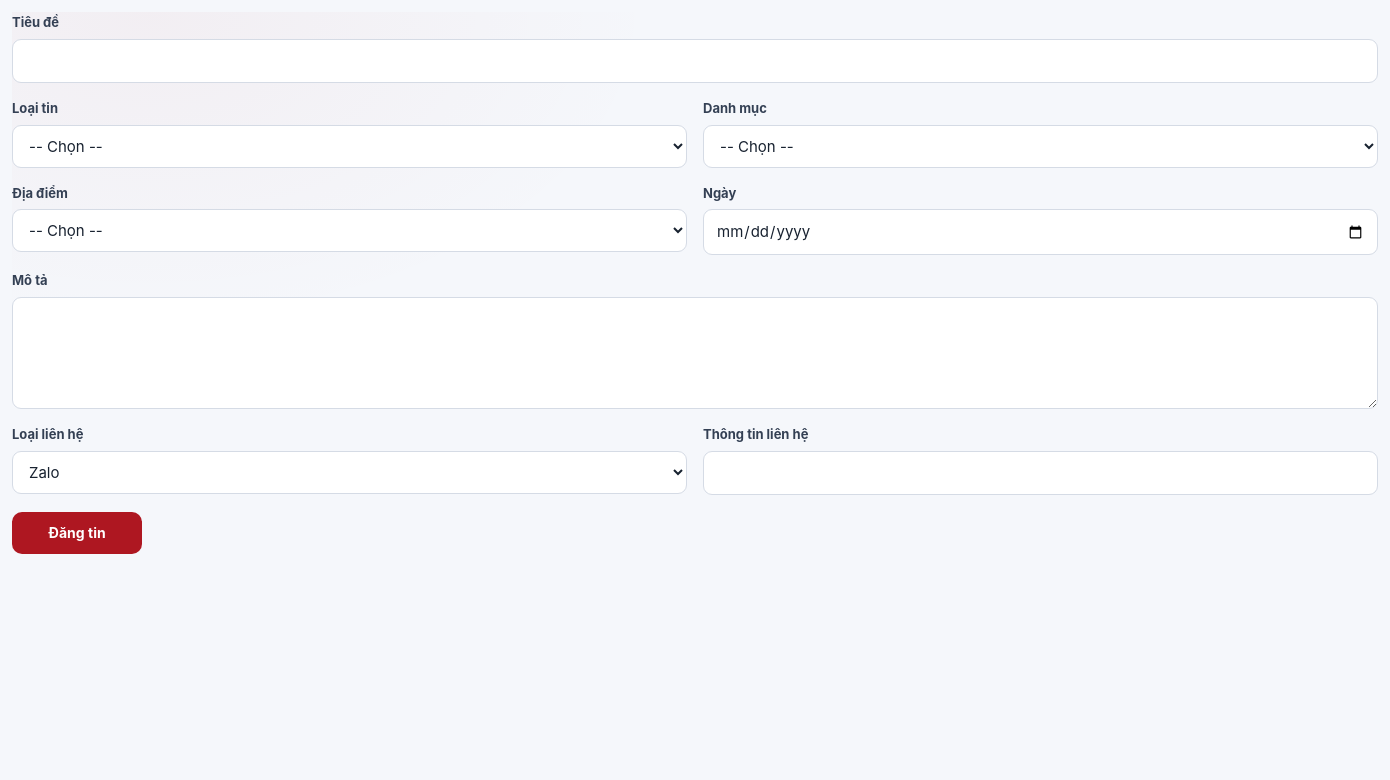
it: Biểu mẫu đăng tin › hiện thông báo không có quyền và giữ lại tiêu đề đã nhập
In the field labelled "Tiêu đề": (695, 61) x1=12 y1=39 x2=1378 y2=83, type "Mất tai nghe không dây"
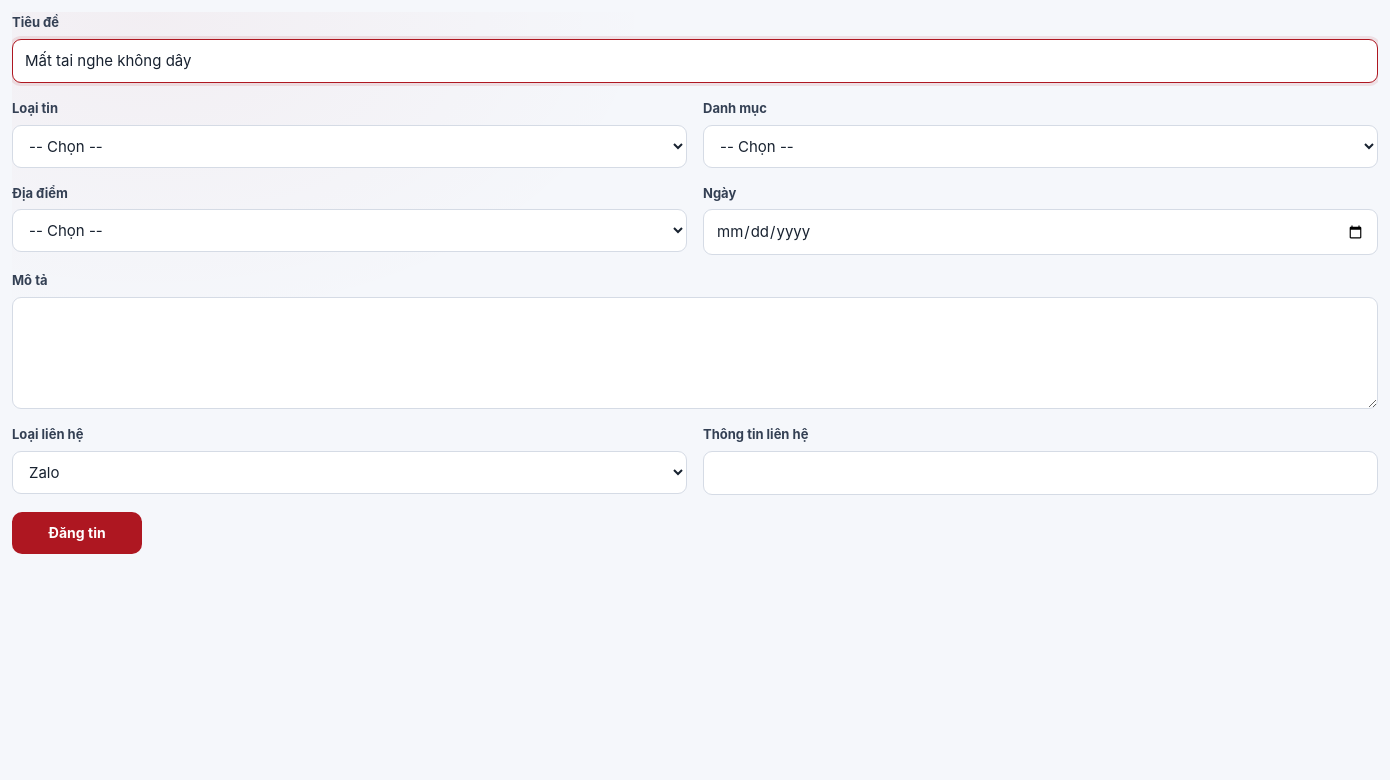
Click the button "Đăng tin": (77, 533) x1=12 y1=512 x2=142 y2=554
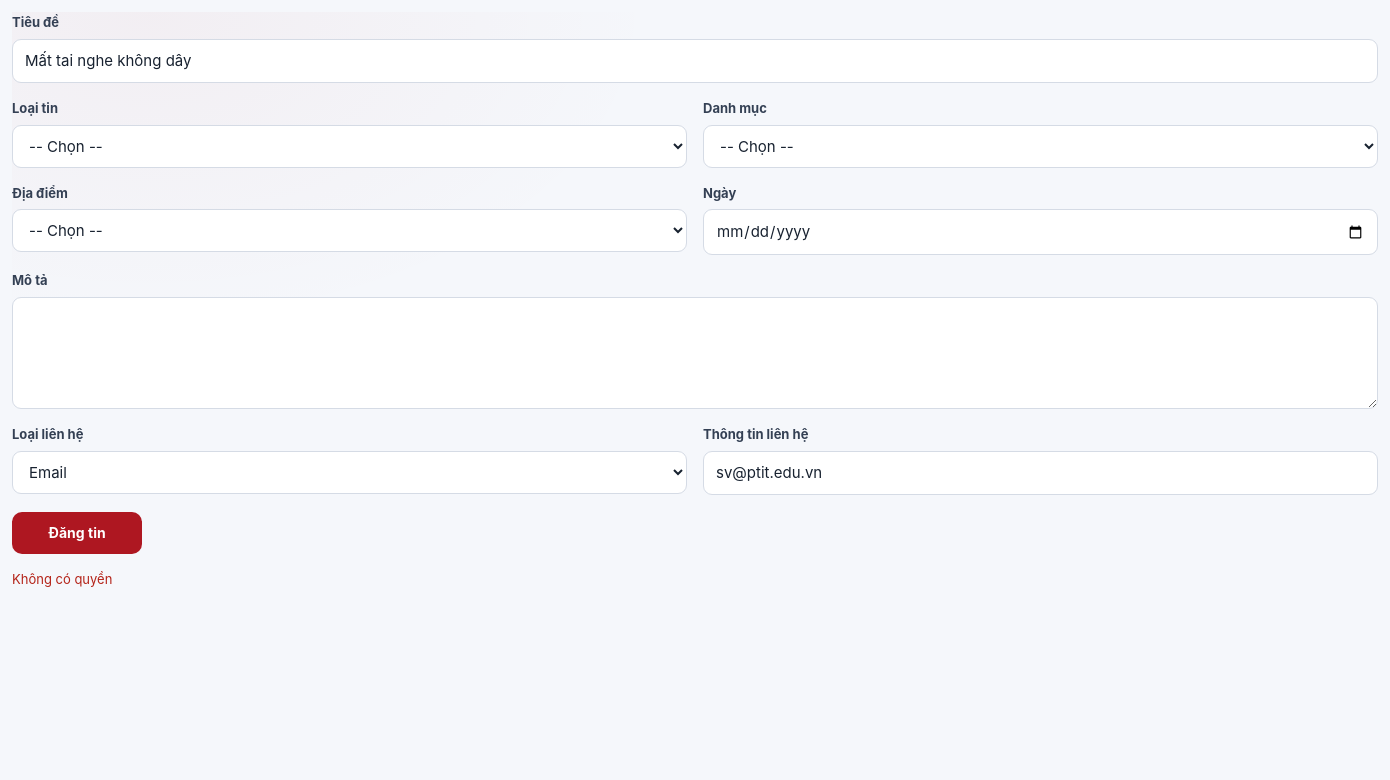
Now the field labelled "Tiêu đề" holds "Mất tai nghe không dây", box x1=12 y1=39 x2=1378 y2=83
Now the message reads "Không có quyền", box x1=12 y1=571 x2=112 y2=587
Now the dropdown labelled "Loại liên hệ" shows "Email", box x1=12 y1=451 x2=687 y2=494
